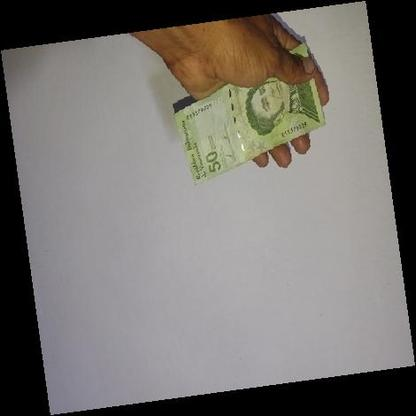fifty-front-vef: (172, 41, 326, 186)
